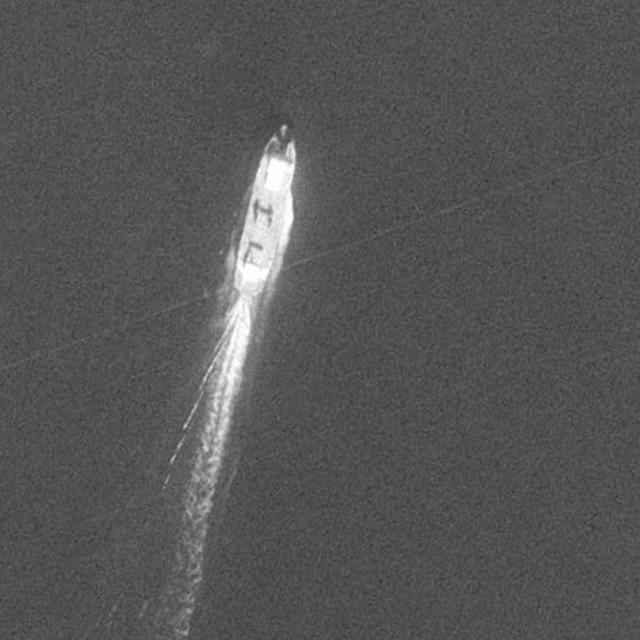RoRo: (228, 117, 303, 303)
